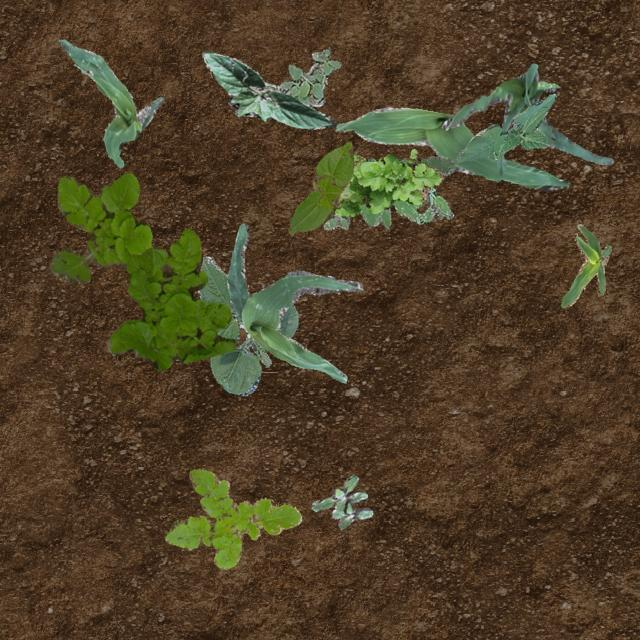crop: (226, 222, 362, 382), (334, 106, 568, 190), (440, 62, 612, 174), (196, 256, 296, 394), (56, 38, 162, 166), (200, 50, 334, 128), (454, 92, 556, 162), (286, 140, 352, 234), (560, 222, 610, 306)
weed: (50, 172, 236, 370), (164, 468, 300, 568), (322, 156, 452, 228), (333, 147, 442, 215), (278, 48, 339, 106), (310, 474, 372, 528), (398, 154, 454, 174)
